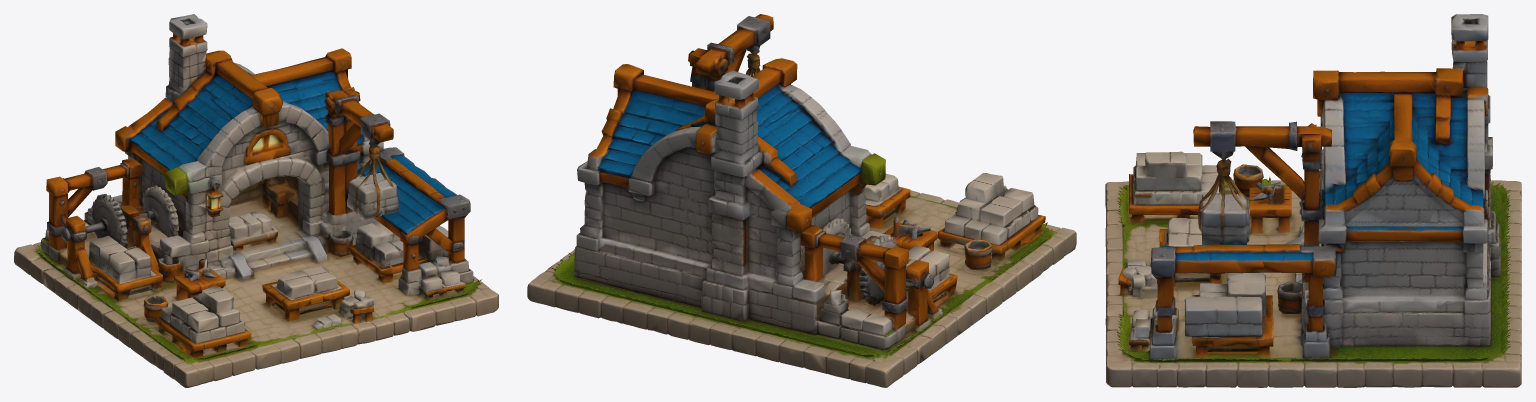
The model's file is stone_workshop_stage2.glb.
3 renders of one model, left to right at view 1: azimuth 30°, elevation 25°; view 2: azimuth 150°, elevation 25°; view 3: azimuth 270°, elevation 25°, orthographic. The views are drawn at different scales.
Parts seen in each view (by area): view 1: tripo_node_4eb63356-a1d1-4545-beaf-d65d830caedf; view 2: tripo_node_4eb63356-a1d1-4545-beaf-d65d830caedf; view 3: tripo_node_4eb63356-a1d1-4545-beaf-d65d830caedf.
Part boxes in pixels (<box>): tripo_node_4eb63356-a1d1-4545-beaf-d65d830caedf: <box>14,14,498,387</box>; tripo_node_4eb63356-a1d1-4545-beaf-d65d830caedf: <box>527,14,1076,387</box>; tripo_node_4eb63356-a1d1-4545-beaf-d65d830caedf: <box>1105,14,1521,387</box>.
Size of the model in its own units: 1 by 0.6662 by 0.9294.
Materials: 1 (1 with a texture image).
